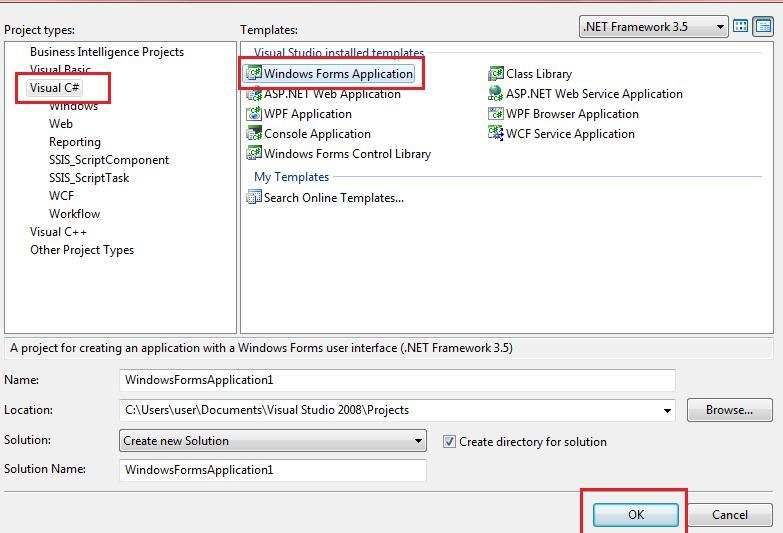button: (687, 502, 778, 530), (686, 398, 775, 425), (592, 503, 680, 528)
checkbox: (443, 435, 458, 450)
dropdown: (122, 400, 676, 424), (121, 430, 429, 454), (581, 16, 731, 38)
input: (120, 371, 677, 394), (119, 458, 429, 485)
label: (460, 436, 613, 451), (3, 461, 92, 480), (2, 431, 56, 452), (2, 402, 58, 420), (1, 370, 43, 389)
